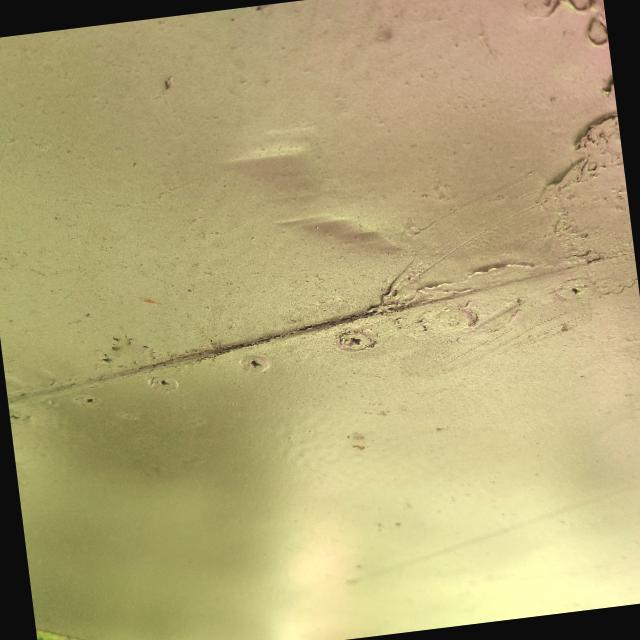dent: (212, 95, 418, 294)
